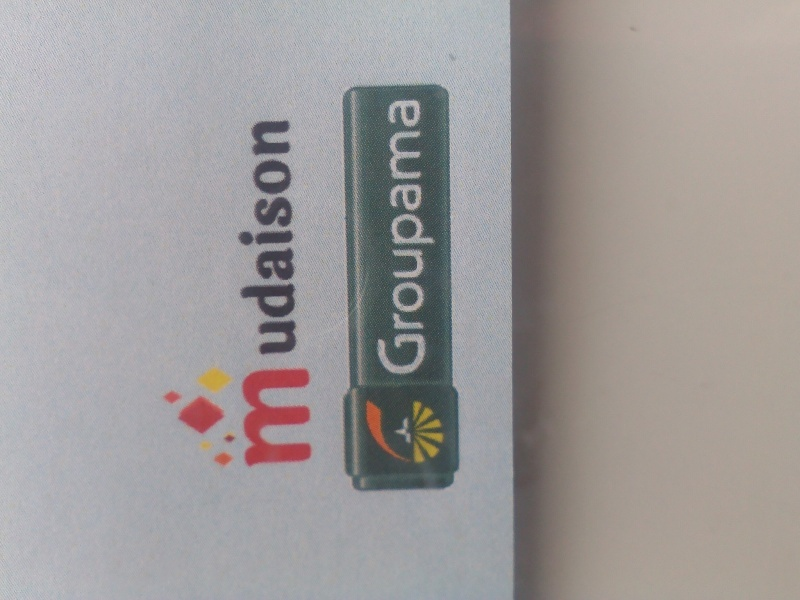text: (385, 98, 400, 378), (401, 98, 416, 378), (417, 98, 432, 378), (371, 98, 384, 378), (241, 117, 256, 358), (257, 117, 272, 358), (273, 117, 288, 358), (289, 117, 299, 358), (433, 98, 440, 378), (257, 366, 272, 469), (273, 366, 288, 469), (289, 366, 304, 469), (234, 117, 240, 358), (242, 366, 256, 469), (305, 366, 314, 469)
